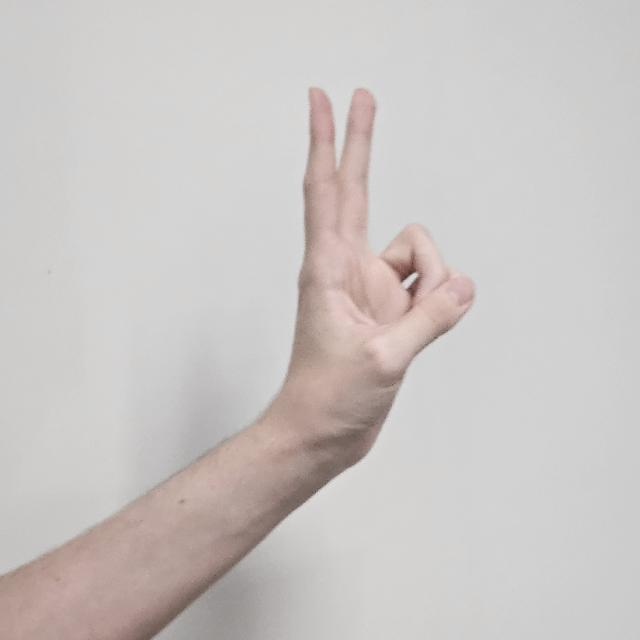Triangulo: (0, 88, 474, 640)
